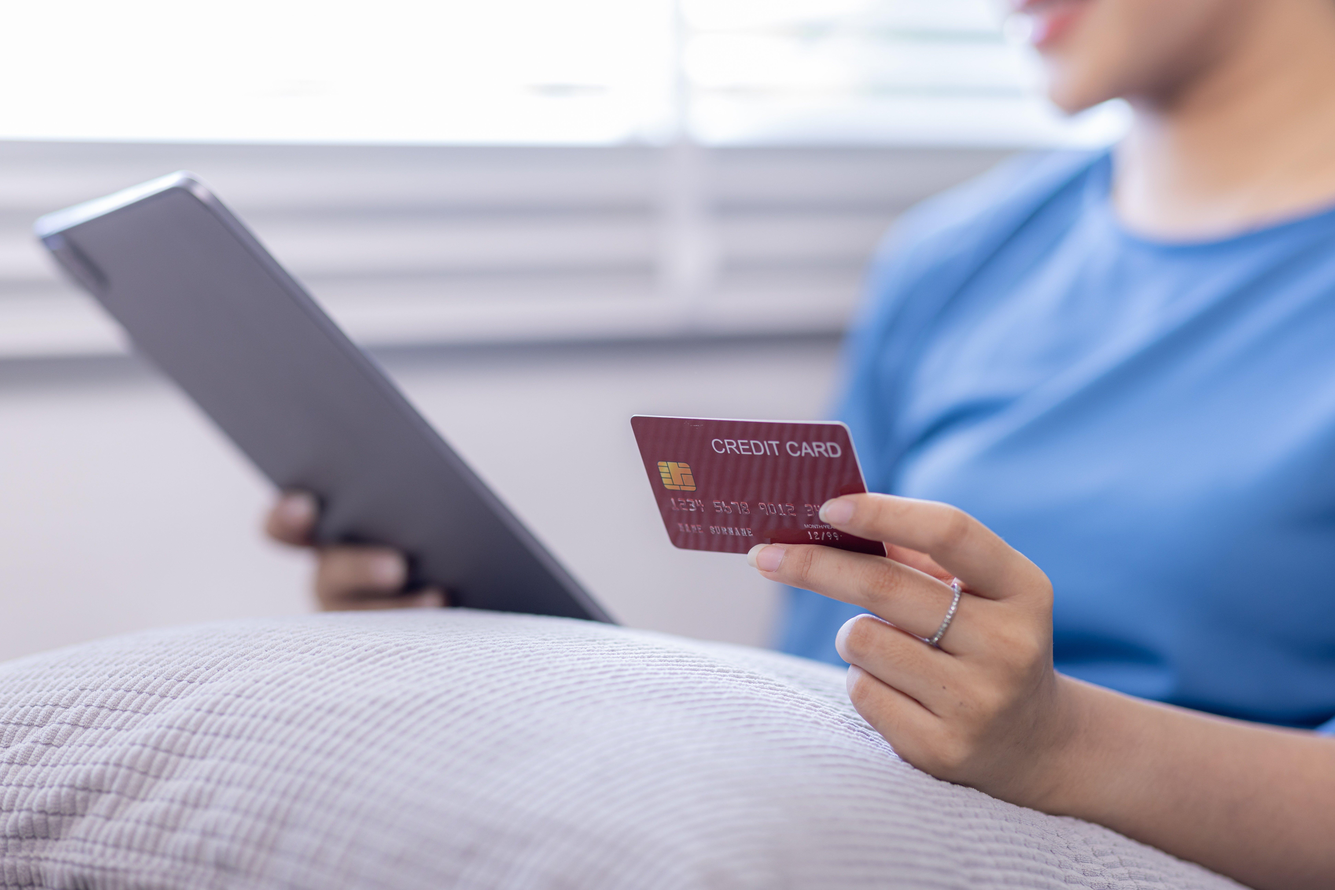Credit_card: (631, 416, 887, 556)
